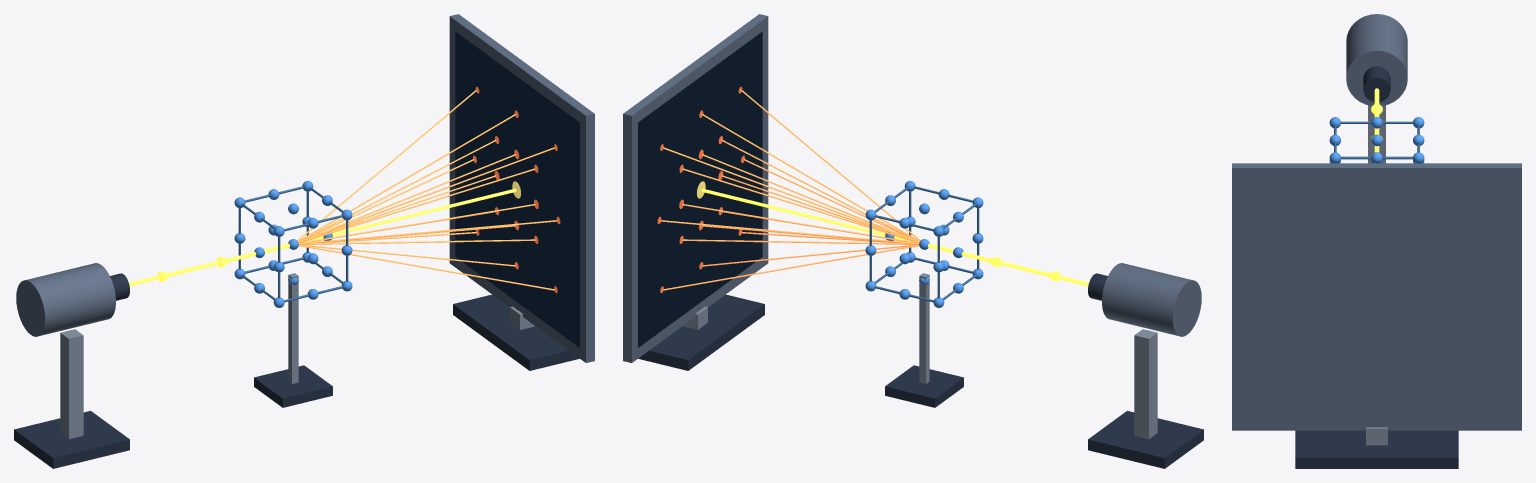
The model's file is Roentgenbeugung.glb.
3 views of the same model, side by side, from view 1: azimuth 30°, elevation 25°; view 2: azimuth 150°, elevation 25°; view 3: azimuth 270°, elevation 25° (orthographic). The views are drawn at different scales.
Visible parts, largest first — view 1: Detektor_aktive_Flaeche, Detektorgehaeuse, Quellengehaeuse, Detektorfuss, Quellenfuss, Quellenstaender, Kristallfuss, Kristallhalter, Primaerstrahl_hinter_Kristall, Einfallender_Roentgenstrahl; view 2: Detektor_aktive_Flaeche, Detektorgehaeuse, Quellengehaeuse, Detektorfuss, Quellenfuss, Quellenstaender, Kristallfuss, Kristallhalter, Primaerstrahl_hinter_Kristall, Einfallender_Roentgenstrahl; view 3: Detektorgehaeuse, Detektorfuss, Quellengehaeuse, Kollimator, Quellenstaender, Detektorstaender.
Part boxes in pixels (x1=…): Detektor_aktive_Flaeche: x1=455, y1=31, x2=579, y2=347; Detektorgehaeuse: x1=449, y1=14, x2=594, y2=362; Quellengehaeuse: x1=16, y1=263, x2=115, y2=336; Detektorfuss: x1=453, y1=294, x2=579, y2=370; Quellenfuss: x1=14, y1=410, x2=129, y2=468; Quellenstaender: x1=60, y1=329, x2=83, y2=439; Kristallfuss: x1=254, y1=365, x2=332, y2=407; Kristallhalter: x1=288, y1=273, x2=298, y2=383; Primaerstrahl_hinter_Kristall: x1=304, y1=188, x2=516, y2=241; Einfallender_Roentgenstrahl: x1=129, y1=243, x2=289, y2=286; Detektor_aktive_Flaeche: x1=638, y1=31, x2=762, y2=347; Detektorgehaeuse: x1=623, y1=14, x2=768, y2=362; Quellengehaeuse: x1=1102, y1=263, x2=1201, y2=336; Detektorfuss: x1=638, y1=294, x2=764, y2=370; Quellenfuss: x1=1088, y1=410, x2=1203, y2=468; Quellenstaender: x1=1134, y1=329, x2=1157, y2=439; Kristallfuss: x1=885, y1=365, x2=963, y2=407; Kristallhalter: x1=919, y1=273, x2=929, y2=383; Primaerstrahl_hinter_Kristall: x1=701, y1=188, x2=913, y2=241; Einfallender_Roentgenstrahl: x1=928, y1=243, x2=1088, y2=286; Detektorgehaeuse: x1=1232, y1=163, x2=1521, y2=430; Detektorfuss: x1=1295, y1=430, x2=1458, y2=468; Quellengehaeuse: x1=1346, y1=14, x2=1407, y2=105; Kollimator: x1=1363, y1=66, x2=1390, y2=101; Quellenstaender: x1=1368, y1=105, x2=1385, y2=163; Detektorstaender: x1=1366, y1=427, x2=1387, y2=445.
Bounding box in the file's own units: 3.54 × 1.75 × 1.6.
